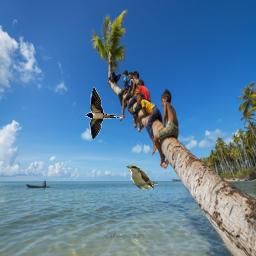Cuckoo: (125, 163, 158, 190)
Swallow: (85, 87, 124, 140)
